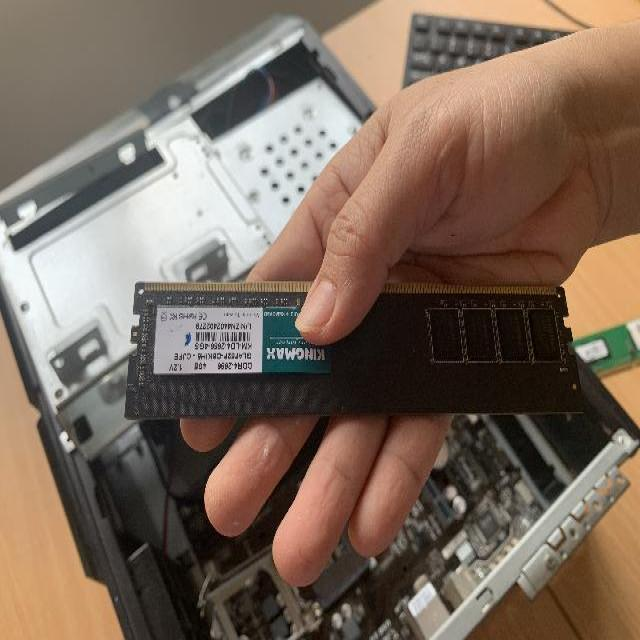RAM: (125, 275, 585, 420)
